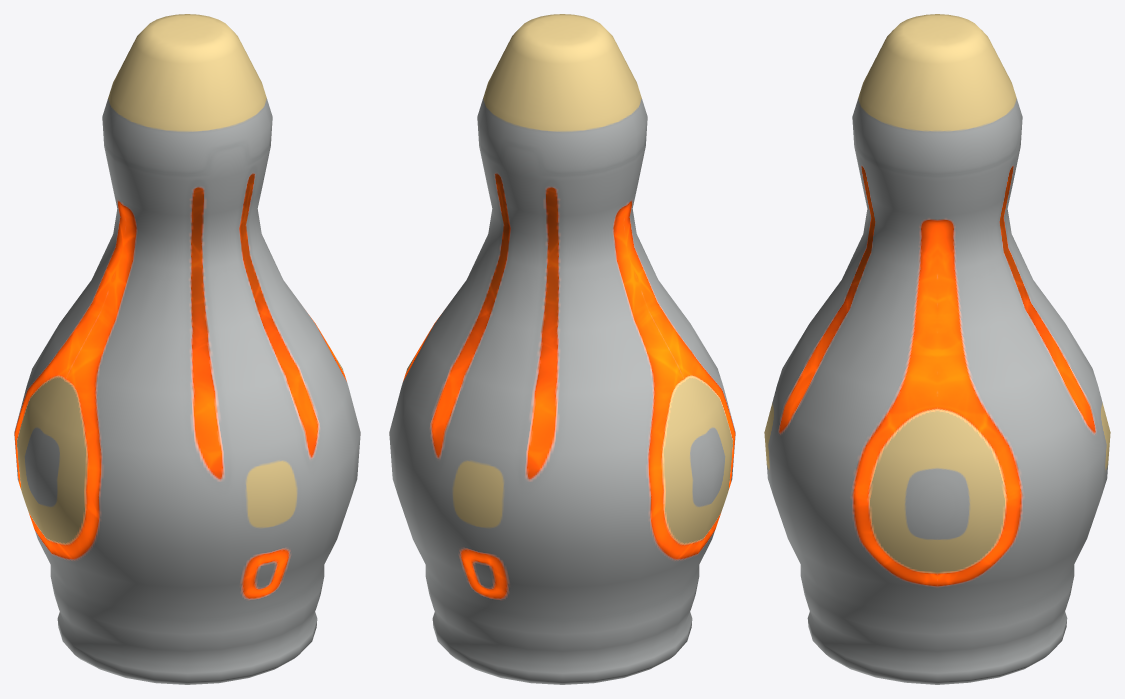
Rendered from BarBottle01_2.FBX.
3 views of the same model, side by side, from view 1: azimuth 30°, elevation 25°; view 2: azimuth 150°, elevation 25°; view 3: azimuth 270°, elevation 25° (orthographic).
Visible parts, largest first — view 1: BarBottle01_2; view 2: BarBottle01_2; view 3: BarBottle01_2.
Boxes of the visible parts, left/top/right/bottom form: BarBottle01_2: left=14, top=14, right=360, bottom=684; BarBottle01_2: left=389, top=14, right=735, bottom=684; BarBottle01_2: left=764, top=14, right=1110, bottom=684.
Size of what is drawn, in the model's own units: 0.1505 by 0.2873 by 0.1493.
